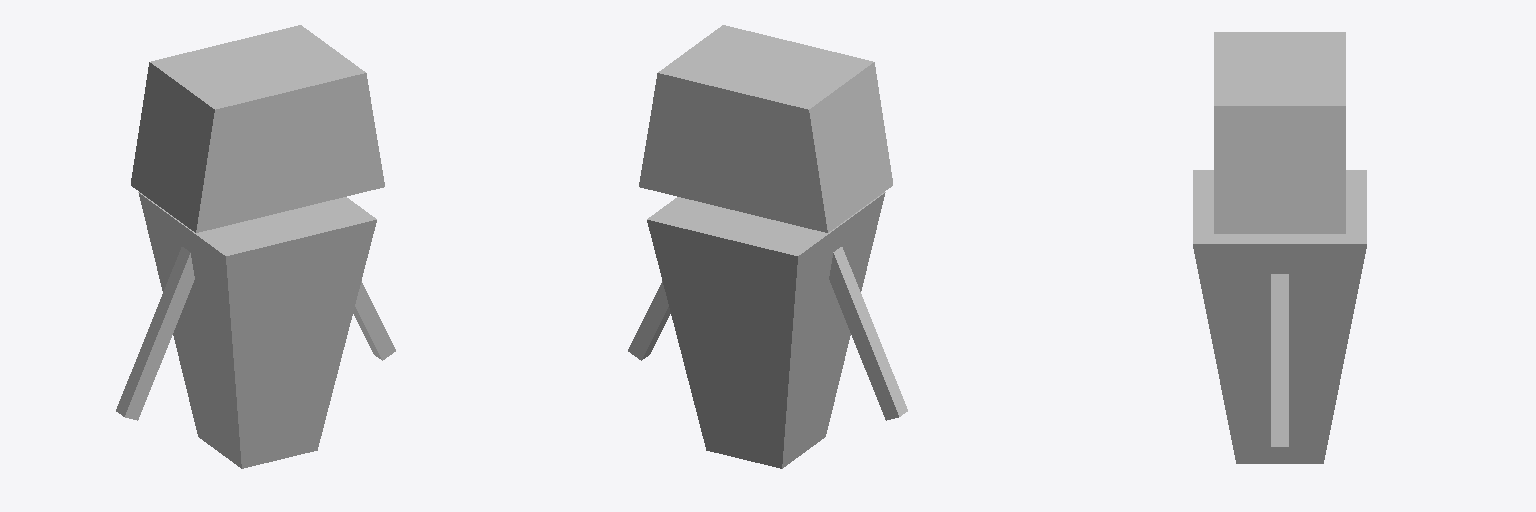
The model's file is flying_robot.obj.
3 renders of one model, left to right at view 1: azimuth 30°, elevation 25°; view 2: azimuth 150°, elevation 25°; view 3: azimuth 270°, elevation 25°, orthographic.
Visible parts, largest first — view 1: Cube.003, Cube.004, Cube.005; view 2: Cube.003, Cube.004, Cube.005; view 3: Cube.003, Cube.005.
Part boxes in pixels (left/top/right/bottom): Cube.003: left=131, top=25, right=384, bottom=468; Cube.004: left=116, top=247, right=194, bottom=420; Cube.005: left=353, top=281, right=395, bottom=360; Cube.003: left=639, top=25, right=892, bottom=468; Cube.004: left=829, top=247, right=907, bottom=420; Cube.005: left=628, top=281, right=670, bottom=360; Cube.003: left=1193, top=32, right=1366, bottom=463; Cube.005: left=1271, top=274, right=1288, bottom=446.
Size of the model in its own units: 0.7182 by 0.95 by 0.4.